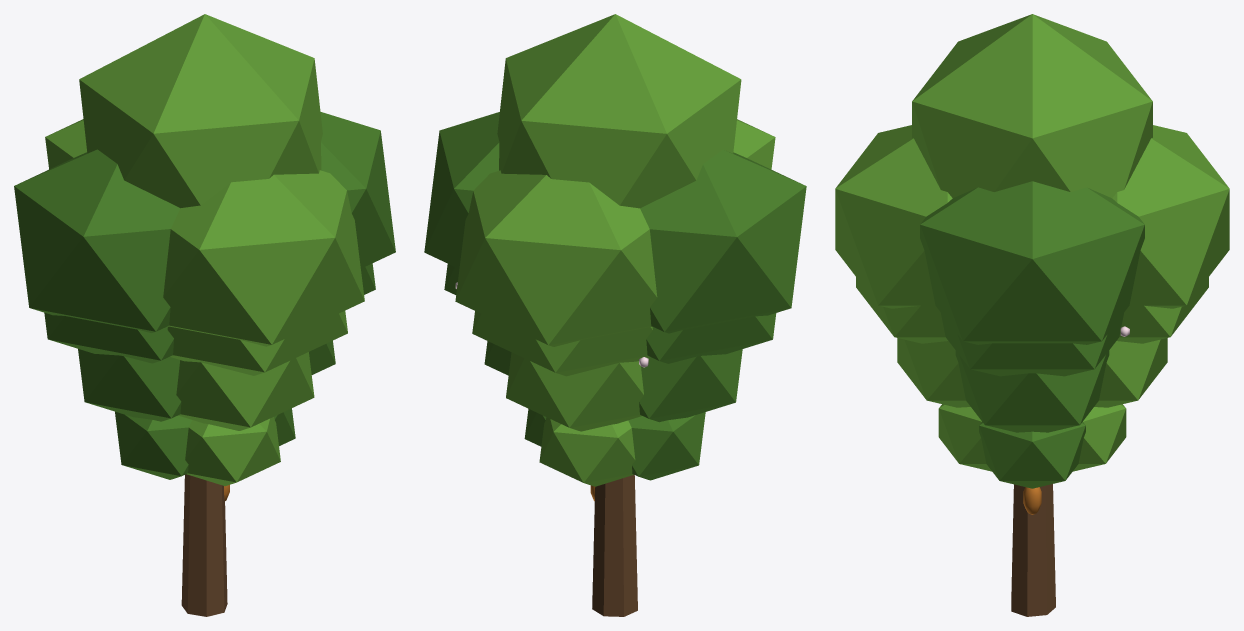
The model's file is Crop_Crop_CacaoPod.fbx.
The picture shows the model from 3 angles, left to right: view 1: azimuth 30°, elevation 25°; view 2: azimuth 150°, elevation 25°; view 3: azimuth 270°, elevation 25°; orthographic projection.
Parts seen in each view (by area): view 1: Crop_Crop_CacaoPod__S4, Crop_Crop_CacaoPod__S2, Crop_Crop_CacaoPod__S1, Crop_Crop_CacaoPod__S3; view 2: Crop_Crop_CacaoPod__S4, Crop_Crop_CacaoPod__S2, Crop_Crop_CacaoPod__S1, Crop_Crop_CacaoPod__S3; view 3: Crop_Crop_CacaoPod__S4, Crop_Crop_CacaoPod__S2, Crop_Crop_CacaoPod__S1, Crop_Crop_CacaoPod__S3.
Part boxes in pixels (box(x1,y1,x2,y2)): Crop_Crop_CacaoPod__S4: box(14, 14, 395, 616); Crop_Crop_CacaoPod__S2: box(78, 340, 335, 430); Crop_Crop_CacaoPod__S1: box(115, 408, 295, 486); Crop_Crop_CacaoPod__S3: box(44, 263, 375, 375); Crop_Crop_CacaoPod__S4: box(424, 14, 806, 616); Crop_Crop_CacaoPod__S2: box(484, 341, 742, 431); Crop_Crop_CacaoPod__S1: box(524, 409, 705, 486); Crop_Crop_CacaoPod__S3: box(444, 264, 776, 376); Crop_Crop_CacaoPod__S4: box(835, 14, 1229, 616); Crop_Crop_CacaoPod__S2: box(897, 338, 1167, 432); Crop_Crop_CacaoPod__S1: box(938, 404, 1126, 488); Crop_Crop_CacaoPod__S3: box(856, 277, 1208, 376).
Size of the model in its own units: 0.551 by 0.888 by 0.5353.
